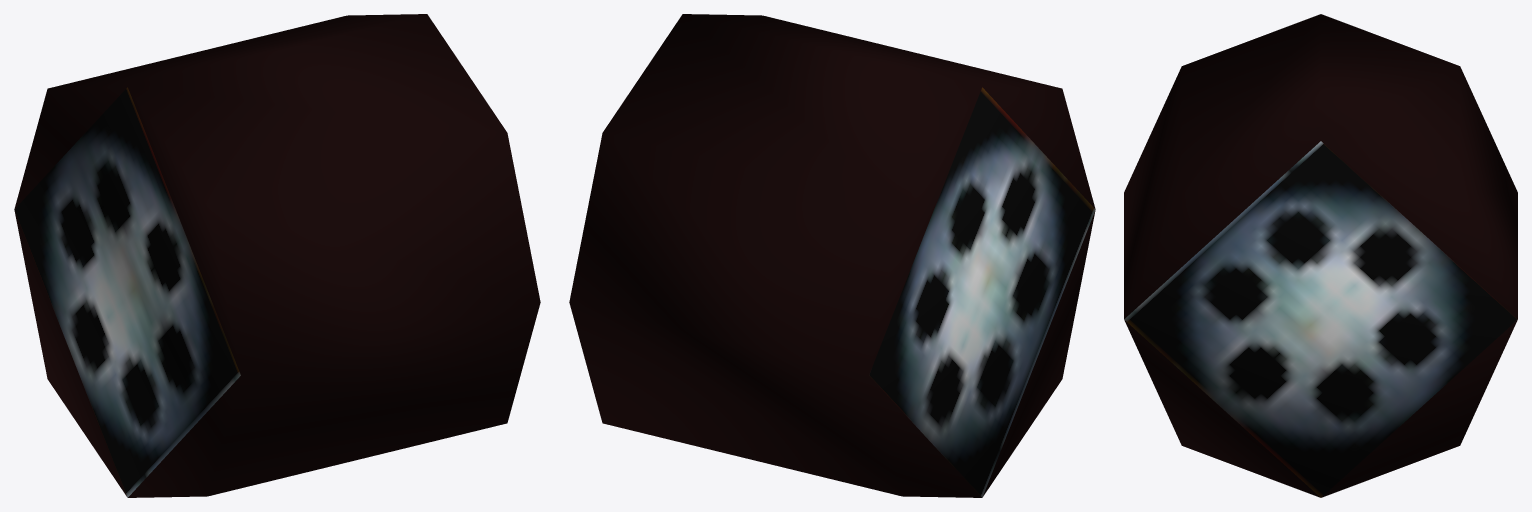
Rendered from WheelRearL.obj.
3 renders of one model, left to right at view 1: azimuth 30°, elevation 25°; view 2: azimuth 150°, elevation 25°; view 3: azimuth 270°, elevation 25°, orthographic. The views are drawn at different scales.
Visible parts, largest first — view 1: WheelRearL; view 2: WheelRearL; view 3: WheelRearL.
Part boxes in pixels (x1=…): WheelRearL: x1=14, y1=14, x2=540, y2=497; WheelRearL: x1=569, y1=14, x2=1095, y2=497; WheelRearL: x1=1124, y1=14, x2=1517, y2=497.
Size of the model in its own units: 0.928 by 1.22 by 1.22.
2 materials, 1 textured.
